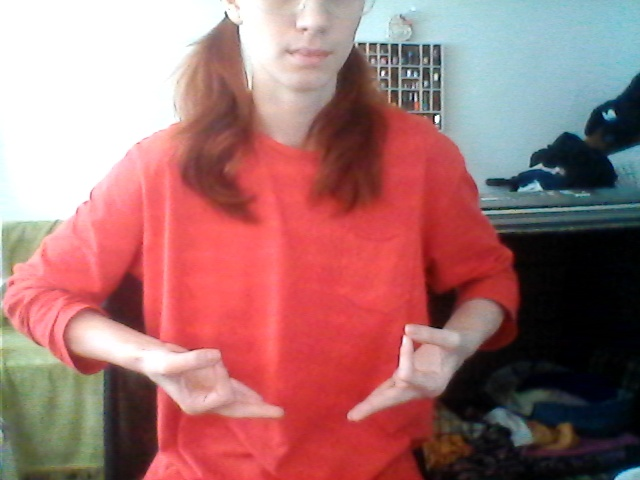preco: (152, 314, 468, 437)
